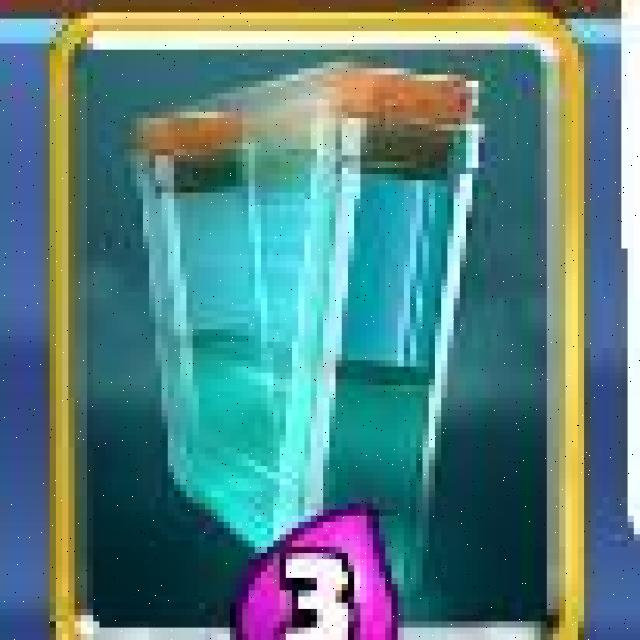Clone_Spell: (49, 14, 582, 640)
